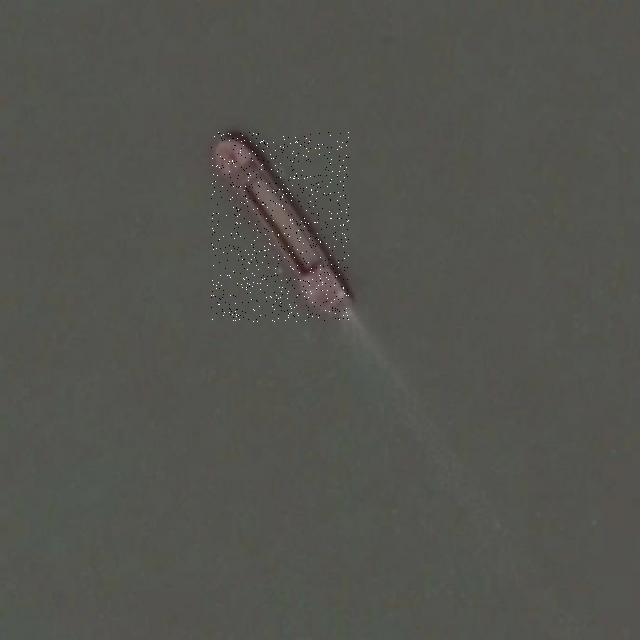boat: (211, 132, 349, 322)
